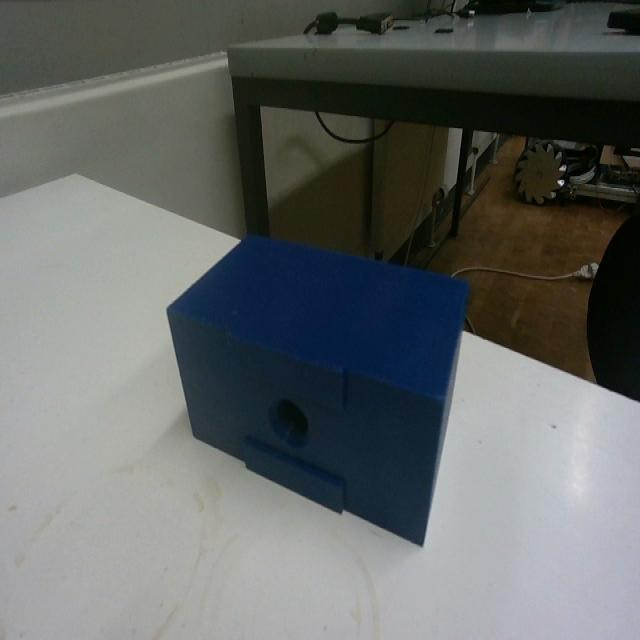Blue Cuboid: (164, 228, 471, 548)
